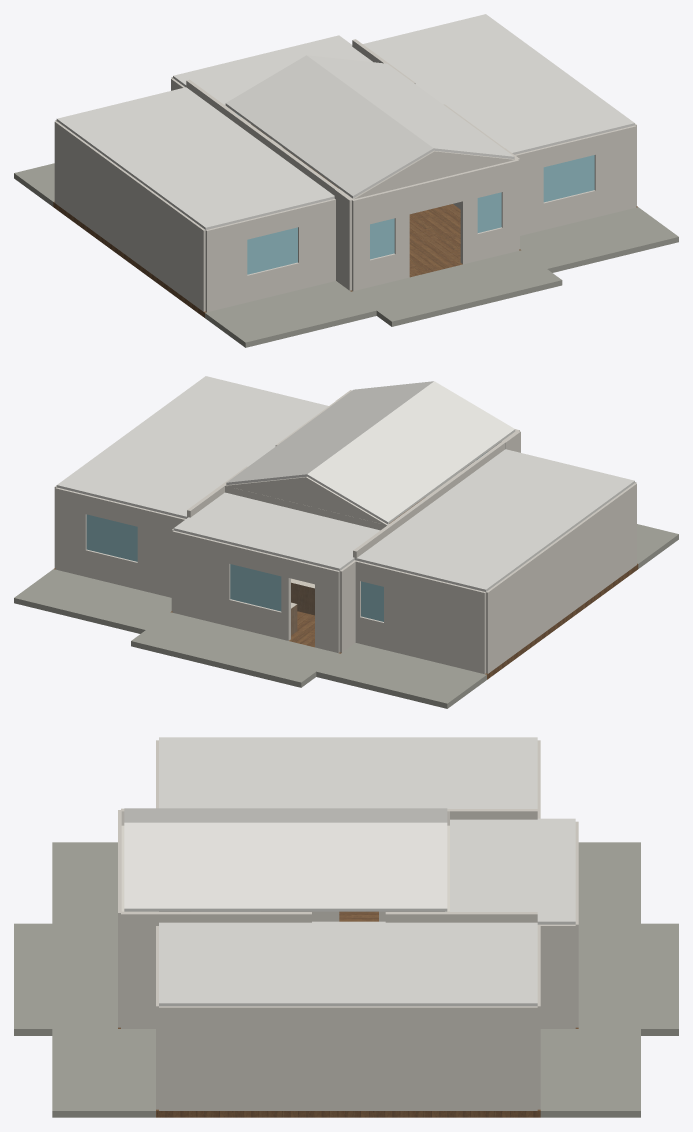
3 renders of one model, top to bottom at view 1: azimuth 30°, elevation 25°; view 2: azimuth 150°, elevation 25°; view 3: azimuth 270°, elevation 25°, orthographic. The views are drawn at different scales.
Parts seen in each view (by area): view 1: ceiling-left, ceiling-right, family-dining/vault-left, ext-left/end, ground/slab/4, family-dining/vault-right, ground/slab/3, ground/slab/5, ceiling-kitchen, ext-primary-front/pier-0, ext-right-front/end, ground/slab/1 (+25 smaller); view 2: ceiling-left, ceiling-right, family-dining/vault-left, ext-left/end, ext-left-rear/pier-0, ceiling-kitchen, ground/slab/7, family-dining/vault-right, ground/slab/6, ground/slab/8, ext-kitchen-rear/end, ext-right-rear/pier-0 (+21 smaller); view 3: ext-right/end, ceiling-right, family-dining/vault-right, ceiling-left, ceiling-kitchen, ground/slab/4, ground/slab/7, ground/slab/5, ground/slab/8, ground/slab/3, ground/slab/6, family-dining/vault-left (+6 smaller).
Boxes of the visible parts, box(x1,y1,x2,y2) form: ceiling-left: box(56, 87, 334, 229); ceiling-right: box(363, 14, 634, 154); family-dining/vault-left: box(225, 55, 433, 198); ext-left/end: box(54, 121, 205, 311); ground/slab/4: box(351, 250, 562, 326); family-dining/vault-right: box(307, 55, 514, 158); ground/slab/3: box(205, 281, 376, 347); ground/slab/5: box(520, 207, 678, 272); ceiling-kitchen: box(173, 35, 372, 104); ext-primary-front/pier-0: box(205, 220, 247, 312); ext-right-front/end: box(594, 125, 636, 217); ground/slab/1: box(310, 167, 520, 291); ceiling-left: box(354, 449, 634, 591); ceiling-right: box(56, 376, 328, 518); family-dining/vault-left: box(307, 381, 515, 524); ext-left/end: box(486, 483, 636, 673); ext-left-rear/pier-0: box(384, 567, 485, 674); ceiling-kitchen: box(173, 492, 380, 570); ground/slab/7: box(131, 612, 340, 687); family-dining/vault-right: box(226, 381, 433, 484); ground/slab/6: box(316, 643, 486, 708); ground/slab/8: box(14, 569, 171, 633); ext-kitchen-rear/end: box(172, 530, 230, 626); ext-right-rear/pier-0: box(137, 507, 185, 597); ext-right/end: box(159, 1006, 537, 1110); ceiling-right: box(159, 921, 537, 1006); family-dining/vault-right: box(124, 822, 447, 911); ceiling-left: box(159, 737, 537, 808); ceiling-kitchen: box(450, 818, 575, 924); ground/slab/4: box(14, 923, 117, 1035); ground/slab/7: box(578, 923, 678, 1035); ground/slab/5: box(52, 1029, 155, 1117); ground/slab/8: box(540, 1029, 640, 1117); ground/slab/3: box(52, 842, 117, 923); ground/slab/6: box(578, 842, 640, 923); family-dining/vault-left: box(124, 808, 447, 822).
Size of the model in its own units: 15.32 by 4.26 by 16.01.
Materials: 8 (2 with a texture image).
